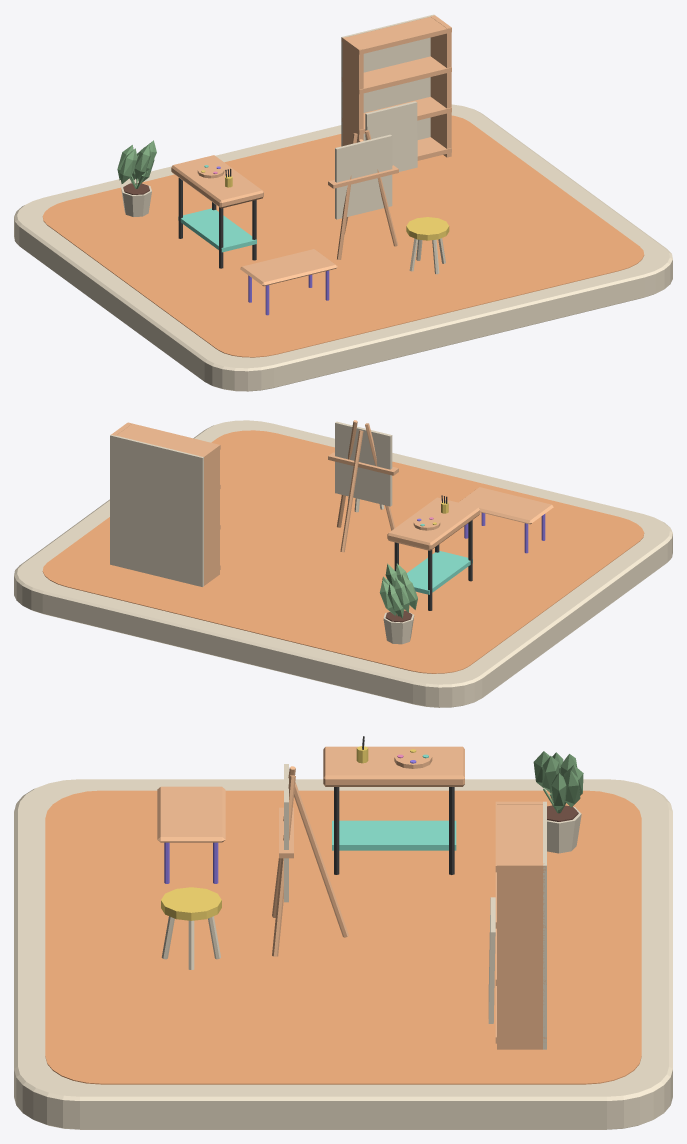
The picture shows the model from 3 angles, top to bottom: view 1: azimuth 30°, elevation 25°; view 2: azimuth 150°, elevation 25°; view 3: azimuth 270°, elevation 25°; orthographic projection. The views are drawn at different scales.
Parts seen in each view (by area): view 1: COM-02 Floor Surface, COM-01 Rounded Base Direct, Canvas, Back, Blank canvas, Worktop, Pot, Side.003, Side.002, Rounded table top, Shelf.003, Shelf.002 (+3 smaller); view 2: COM-02 Floor Surface, COM-01 Rounded Base Direct, Back, Canvas, Worktop, Pot, Side.002, Rounded table top, Lower shelf, Shelf.003, Rear leg; view 3: COM-02 Floor Surface, COM-01 Rounded Base Direct, Side.003, Worktop, Rounded table top, Lower shelf, Pot, Shelf.003, Seat, Rear leg, Back, Side.001 (+3 smaller).
Boxes of the visible parts, x1,y1,x2,y2 form: COM-02 Floor Surface: [42, 115, 644, 357]; COM-01 Rounded Base Direct: [14, 104, 672, 391]; Canvas: [335, 134, 392, 219]; Back: [341, 14, 434, 146]; Blank canvas: [365, 101, 417, 171]; Worktop: [171, 155, 263, 208]; Pot: [117, 140, 156, 216]; Side.003: [430, 15, 451, 157]; Side.002: [342, 37, 363, 145]; Rounded table top: [240, 249, 337, 286]; Shelf.003: [341, 17, 451, 54]; Shelf.002: [341, 56, 451, 94]; COM-02 Floor Surface: [42, 430, 644, 673]; COM-01 Rounded Base Direct: [14, 420, 672, 707]; Back: [110, 435, 203, 586]; Canvas: [335, 421, 392, 506]; Worktop: [387, 497, 479, 550]; Pot: [379, 563, 417, 644]; Side.002: [199, 444, 219, 585]; Rounded table top: [459, 487, 553, 524]; Lower shelf: [406, 551, 472, 594]; Shelf.003: [116, 422, 220, 461]; Rear leg: [340, 430, 363, 552]; COM-02 Floor Surface: [45, 790, 641, 1084]; COM-01 Rounded Base Direct: [14, 779, 672, 1129]; Side.003: [497, 862, 544, 1049]; Worktop: [323, 746, 464, 786]; Rounded table top: [157, 786, 225, 842]; Lower shelf: [332, 820, 456, 850]; Pot: [533, 751, 583, 853]; Shelf.003: [495, 801, 545, 872]; Seat: [161, 887, 221, 920]; Rear leg: [294, 782, 348, 937]; Back: [543, 801, 546, 1049]; Side.001: [272, 775, 295, 956].
Bounding box in the file's own units: 6 × 1.9 × 5.2.
Materials: 1 (1 with a texture image).
